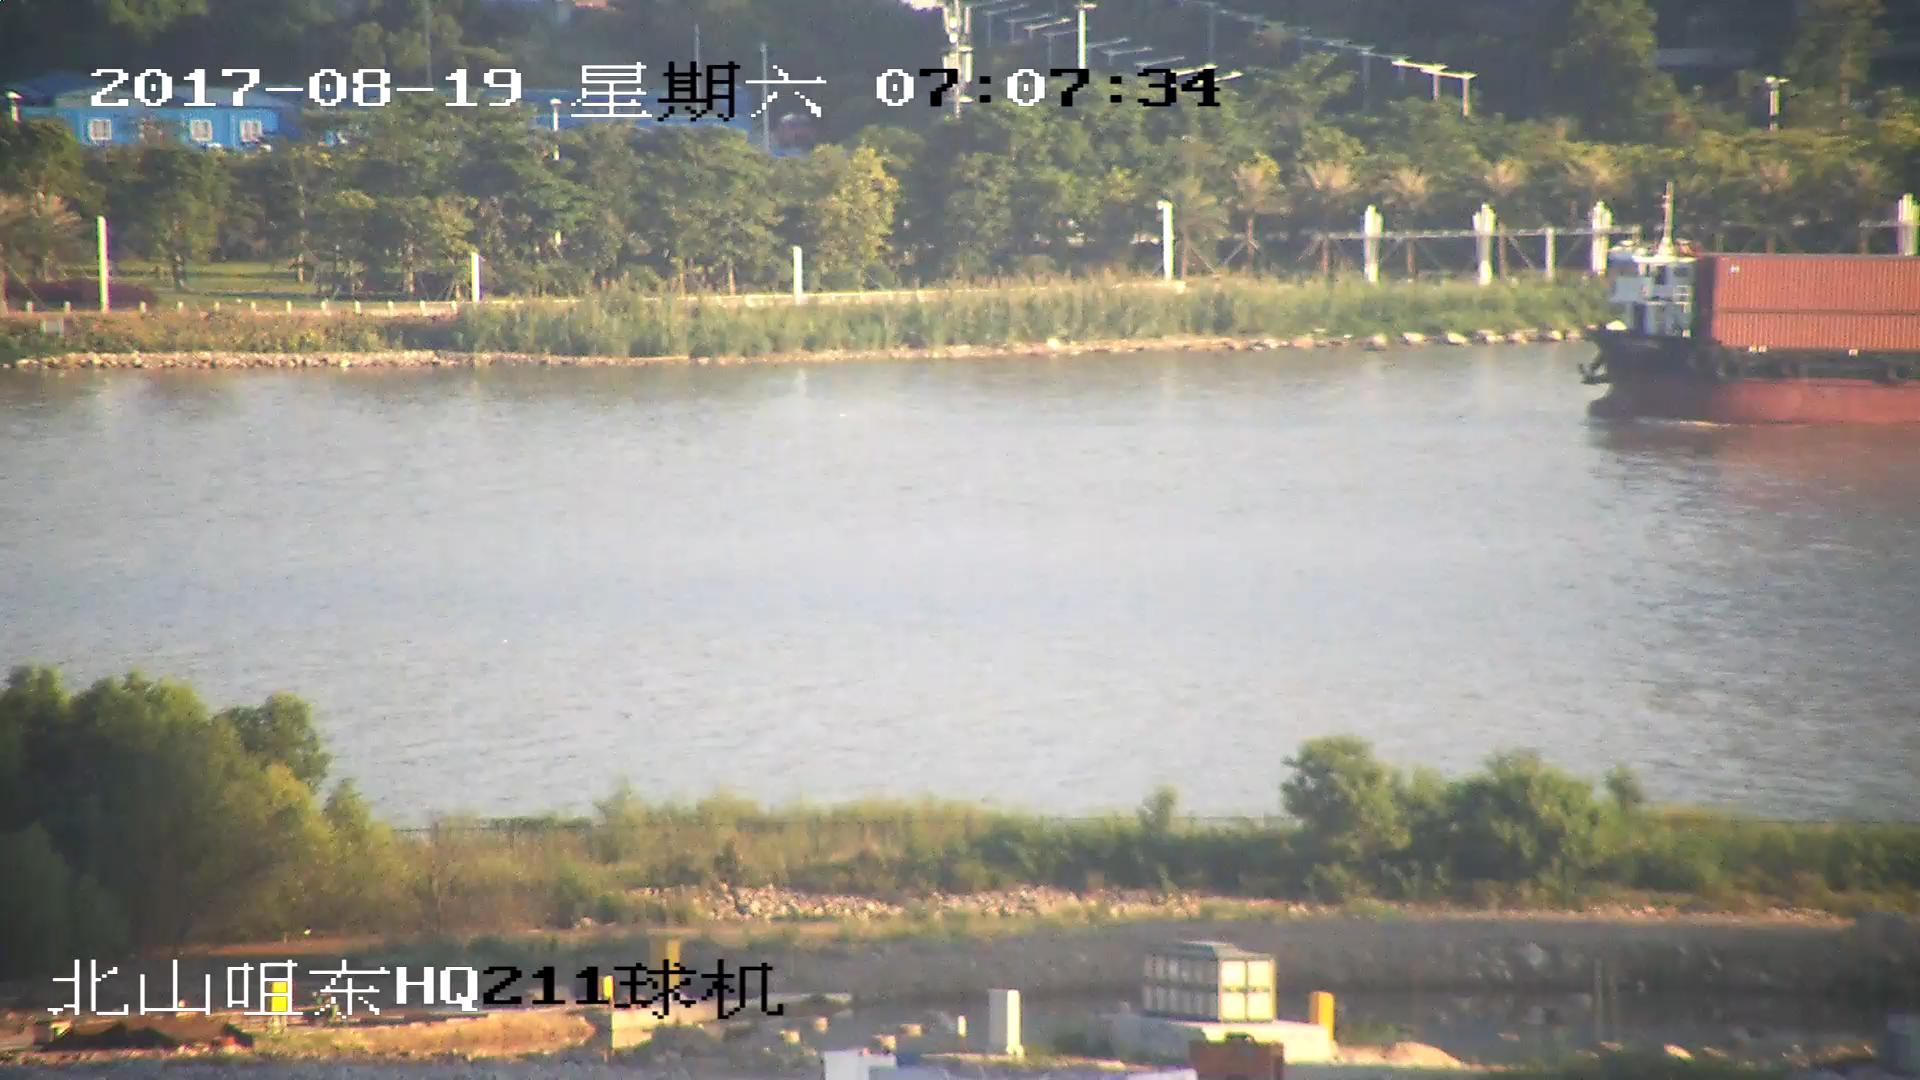container ship: (1582, 192, 1920, 421)
